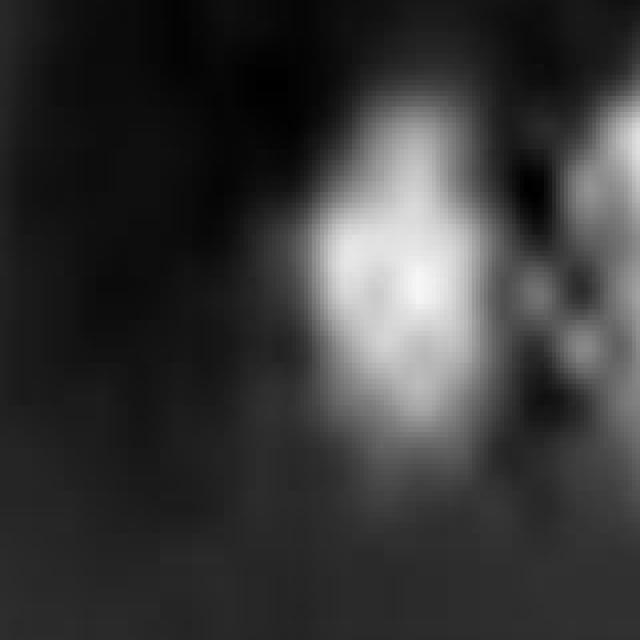person: (306, 74, 518, 496), (537, 28, 640, 540)
